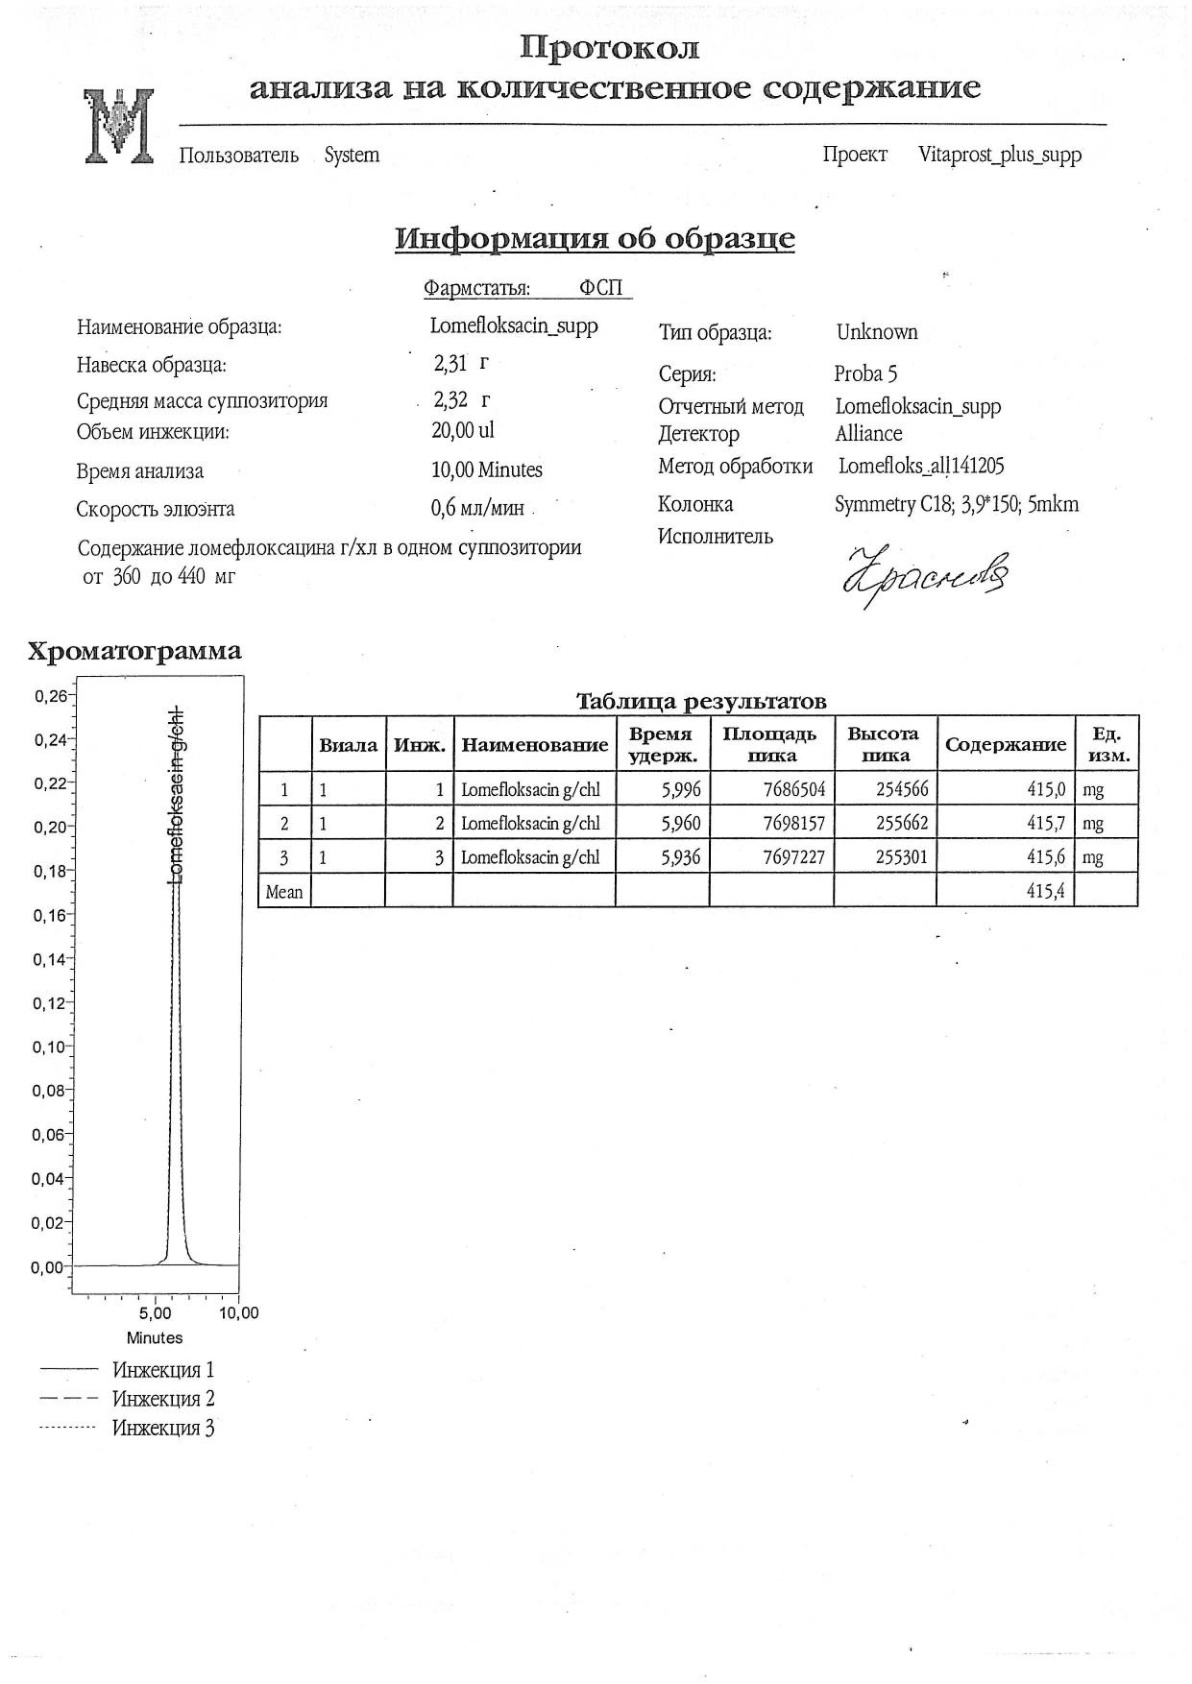full_lined: (254, 710, 1146, 913)
nolines: (59, 306, 1115, 600)
